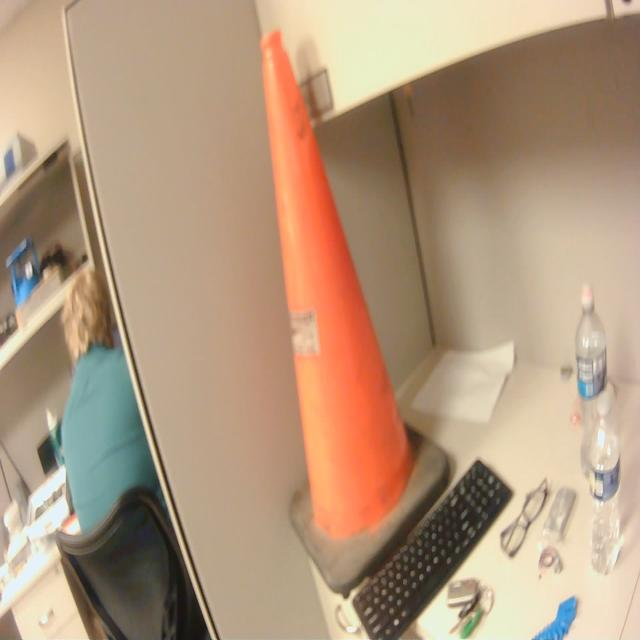traffic cone: (257, 24, 454, 599)
